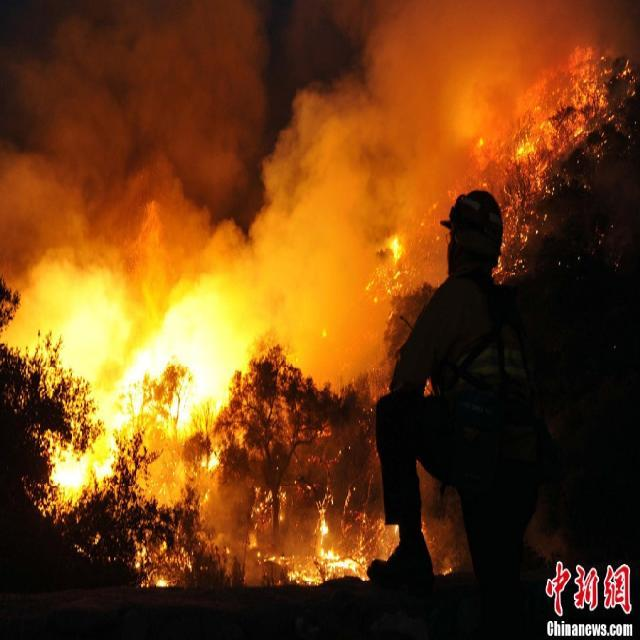Fire: (32, 296, 232, 518), (492, 50, 640, 286), (248, 478, 400, 586), (128, 526, 194, 591), (364, 234, 409, 304), (91, 532, 102, 548)
Smoke: (0, 1, 640, 582)
